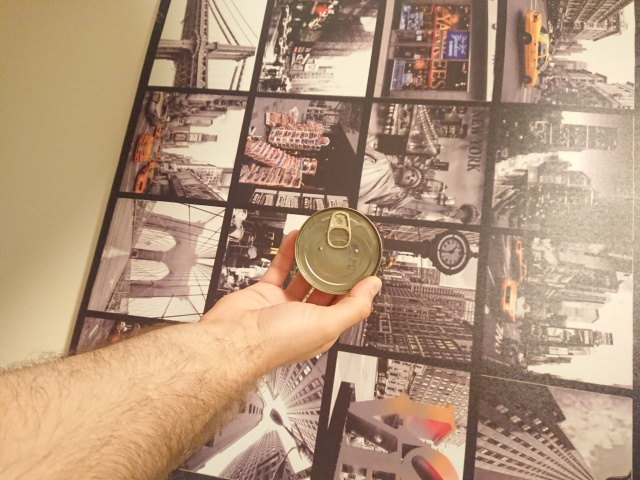Podravka Luncheon Meat 150g: (293, 204, 384, 297)
